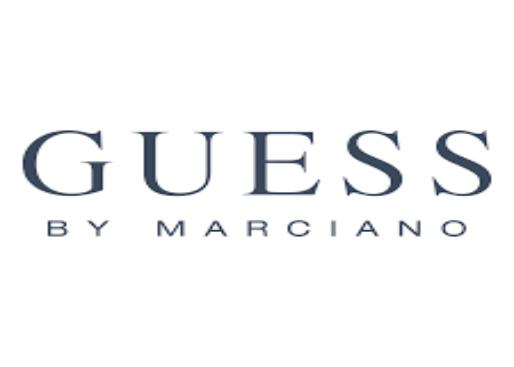GUESS: (18, 127, 495, 198)
